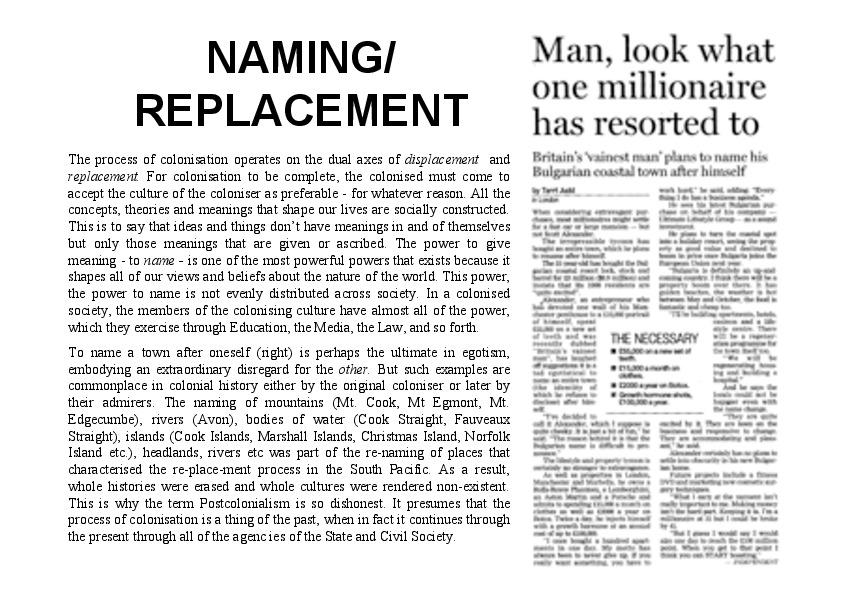paragraph: (57, 143, 802, 588)
title: (121, 21, 481, 132), (523, 30, 797, 141)
